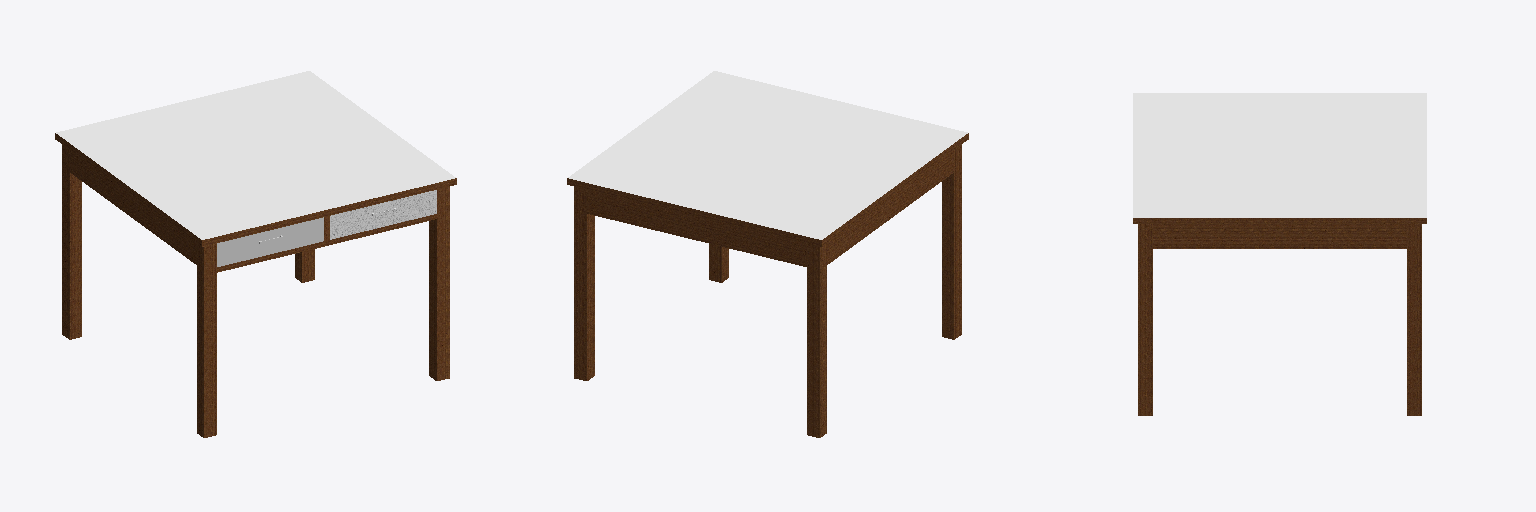
The picture shows the model from 3 angles: view 1: azimuth 30°, elevation 25°; view 2: azimuth 150°, elevation 25°; view 3: azimuth 270°, elevation 25°; orthographic projection.
Visible parts, largest first — view 1: Mesh1 TableTop Model, Mesh5 TableLeg1 Model, Mesh6 TableLeg2 Model, Mesh8 TableLeg4 Model, Mesh11 TableSide3 Model, Mesh15 Drawer2 Model, Mesh13 Drawer1 Model, Mesh3 UnderDrawer Model, Mesh7 TableLeg3 Model; view 2: Mesh1 TableTop Model, Mesh10 TableSide2 Model, Mesh8 TableLeg4 Model, Mesh7 TableLeg3 Model, Mesh5 TableLeg1 Model, Mesh11 TableSide3 Model, Mesh6 TableLeg2 Model; view 3: Mesh1 TableTop Model, Mesh9 TableSide1 Model, Mesh6 TableLeg2 Model, Mesh7 TableLeg3 Model.
Part boxes in pixels (x1,y1,x2,y2): Mesh1 TableTop Model: (55,71,456,246); Mesh5 TableLeg1 Model: (197,243,216,437); Mesh6 TableLeg2 Model: (429,187,449,380); Mesh8 TableLeg4 Model: (62,145,81,339); Mesh11 TableSide3 Model: (70,151,196,264); Mesh15 Drawer2 Model: (330,190,436,239); Mesh13 Drawer1 Model: (217,217,323,266); Mesh3 UnderDrawer Model: (217,214,436,272); Mesh7 TableLeg3 Model: (295,249,314,282); Mesh1 TableTop Model: (567,71,968,246); Mesh10 TableSide2 Model: (587,190,806,266); Mesh8 TableLeg4 Model: (807,243,826,437); Mesh7 TableLeg3 Model: (574,187,594,380); Mesh5 TableLeg1 Model: (942,145,961,339); Mesh11 TableSide3 Model: (827,151,953,264); Mesh6 TableLeg2 Model: (709,244,728,282); Mesh1 TableTop Model: (1133,93,1426,223); Mesh9 TableSide1 Model: (1153,224,1406,248); Mesh6 TableLeg2 Model: (1138,224,1152,415); Mesh7 TableLeg3 Model: (1407,224,1421,415).
Bounding box in the file's own units: 100 × 75.51 × 100.
5 materials, 2 textured.